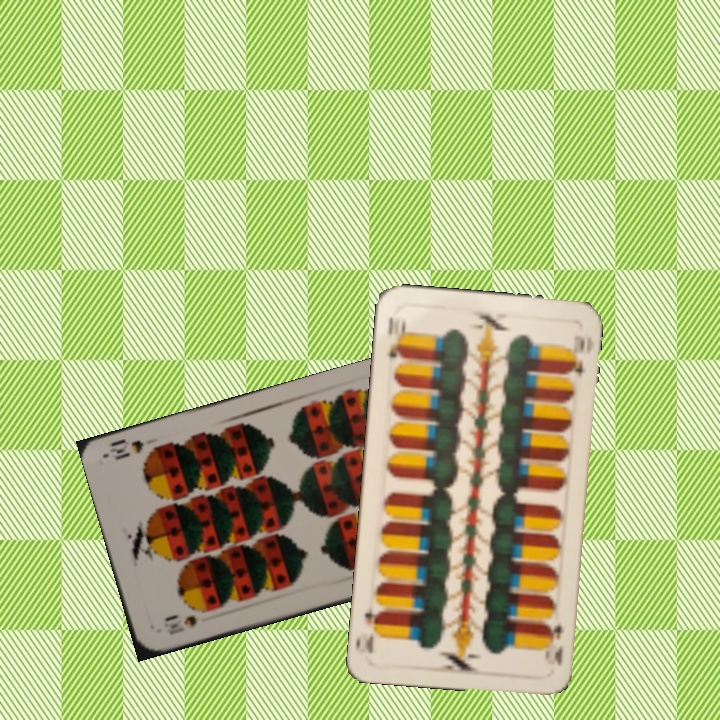E10: (383, 313, 408, 361), (541, 620, 566, 668)
S10: (161, 606, 211, 638)
